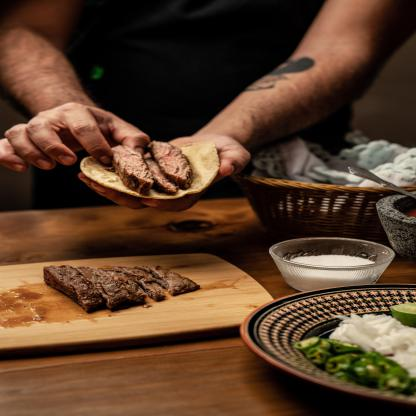Carne: (41, 265, 101, 316), (81, 265, 150, 304), (107, 143, 150, 192), (152, 140, 193, 188), (138, 266, 198, 293)
